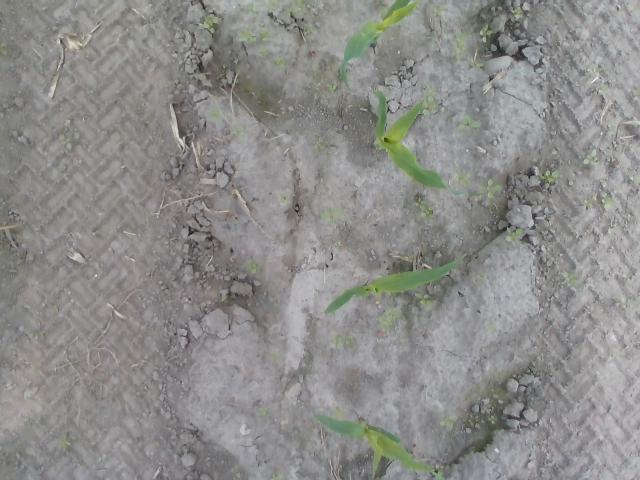Maize: (372, 90, 466, 196), (322, 253, 467, 314), (312, 413, 438, 480), (338, 1, 421, 84)
Weeds: (480, 179, 504, 200), (239, 29, 271, 44), (380, 307, 400, 330), (414, 196, 434, 218), (421, 96, 440, 117), (599, 191, 617, 212), (286, 0, 306, 18), (540, 168, 560, 184), (414, 292, 436, 306), (560, 271, 578, 287), (455, 32, 469, 52), (464, 114, 481, 130), (479, 24, 494, 42), (582, 148, 596, 166), (58, 133, 72, 151), (324, 206, 341, 220), (505, 228, 524, 240), (313, 136, 327, 152), (441, 416, 459, 428), (454, 173, 470, 186), (60, 432, 72, 449), (244, 260, 258, 273), (326, 82, 340, 95), (208, 106, 220, 120), (204, 16, 217, 28), (431, 6, 444, 18), (510, 6, 523, 18), (260, 46, 272, 58), (486, 413, 498, 425), (583, 198, 596, 208), (0, 40, 8, 56), (258, 407, 269, 418), (272, 58, 284, 68), (334, 336, 345, 346), (266, 0, 278, 8), (246, 6, 256, 14)
